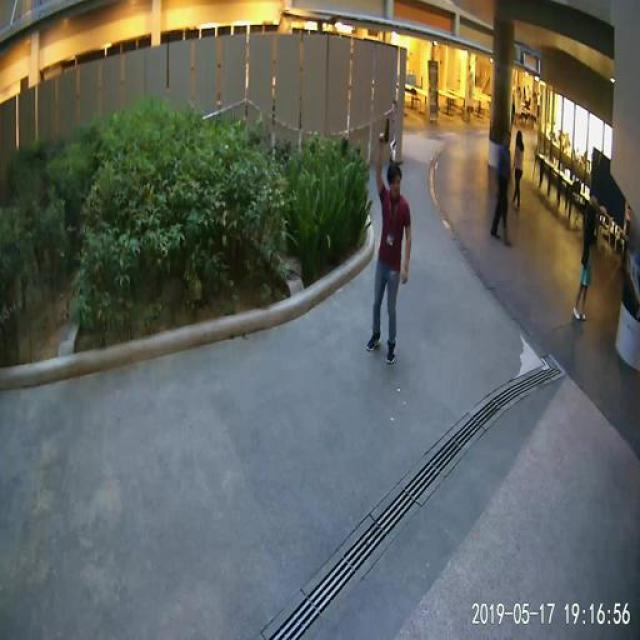Gun: (375, 108, 399, 151)
